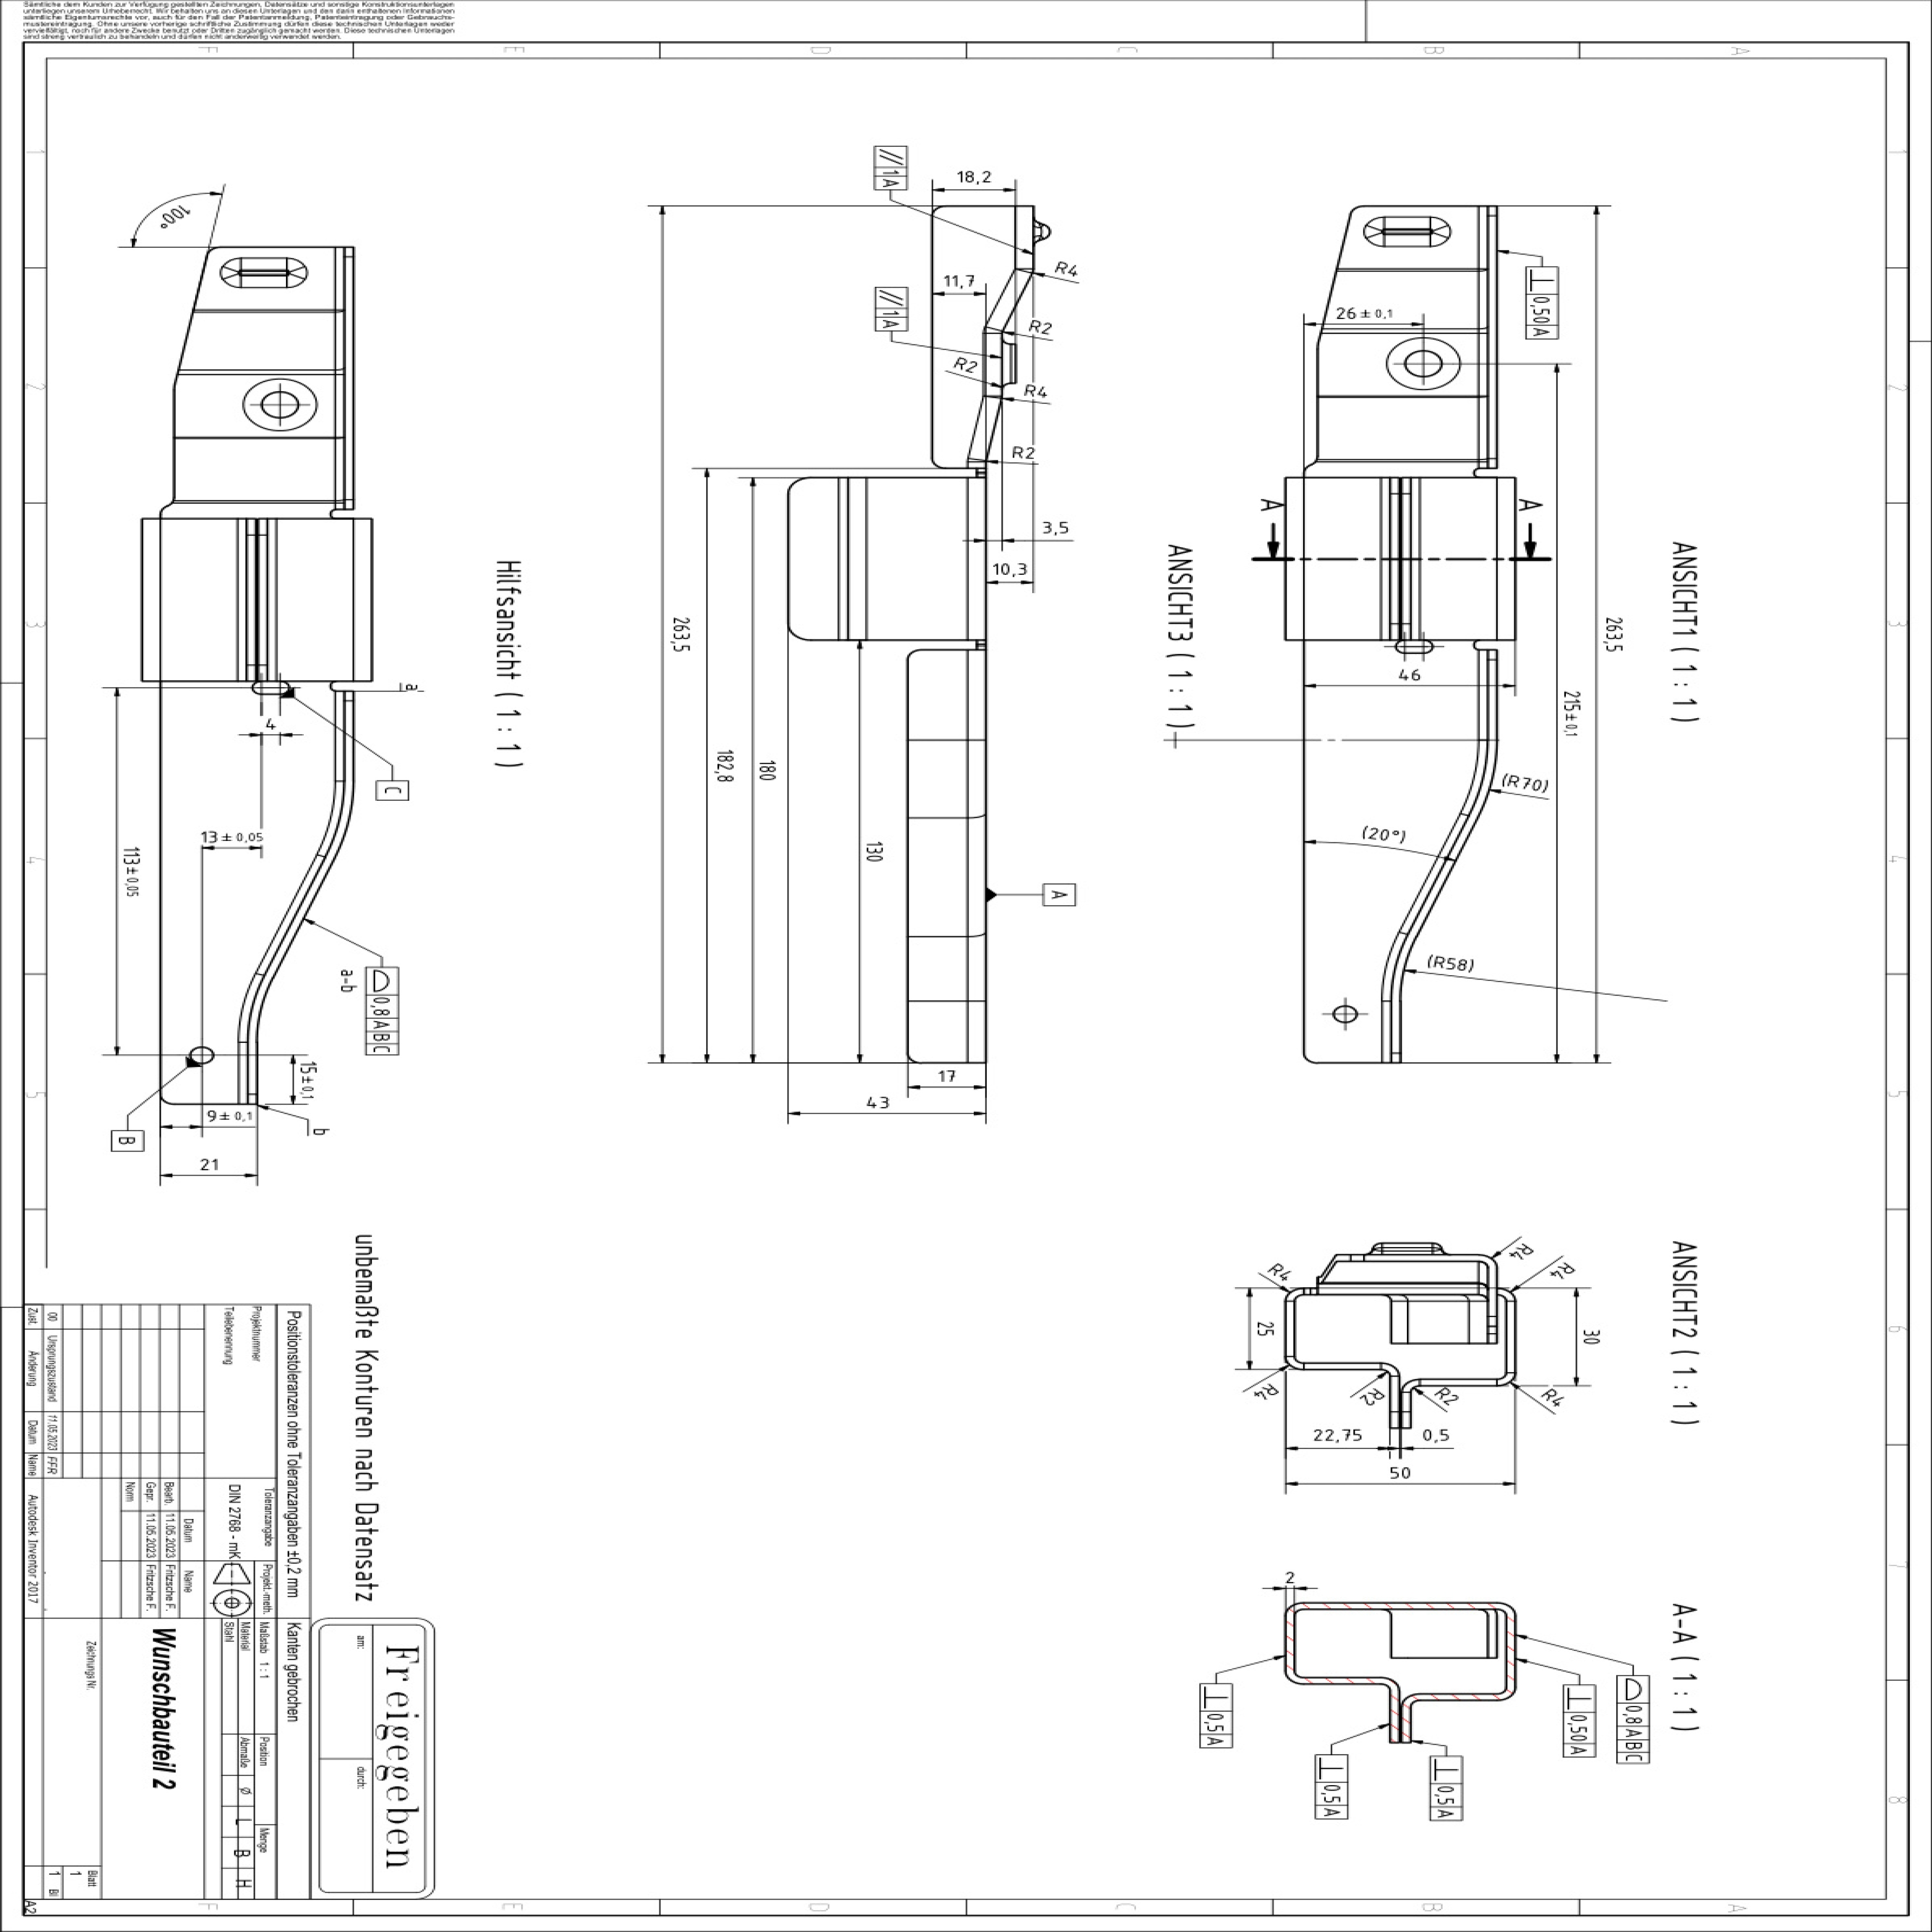3dBending: (1355, 639, 1525, 1070), (221, 678, 375, 1111)
BendingEdge: (232, 518, 281, 678), (1378, 476, 1422, 639), (835, 478, 872, 639), (349, 517, 375, 678), (140, 517, 165, 681), (962, 478, 985, 637), (1284, 478, 1307, 637), (1493, 479, 1514, 637), (1323, 322, 1481, 336), (179, 366, 336, 379), (1338, 264, 1479, 274), (173, 433, 338, 441), (1316, 395, 1479, 402), (173, 495, 336, 502), (1316, 455, 1477, 462), (191, 308, 336, 315), (984, 320, 1003, 336), (1016, 264, 1033, 276), (970, 453, 987, 464), (985, 391, 1001, 400)
BendingEdgeCurve: (1279, 1353, 1304, 1375), (1283, 1283, 1306, 1304), (1378, 1359, 1399, 1382), (1499, 1283, 1516, 1306), (1403, 1376, 1422, 1396), (1493, 1373, 1520, 1385)
Embossment: (219, 255, 310, 290), (1362, 214, 1453, 249), (1033, 216, 1051, 244)
InnerContour: (1330, 1000, 1361, 1026), (1392, 639, 1435, 656), (249, 681, 290, 697), (189, 1046, 214, 1065)
ThroughHole: (1384, 334, 1465, 395), (242, 377, 318, 432)
ThroughHoleExternal: (1368, 1238, 1445, 1254), (1000, 334, 1019, 389)
